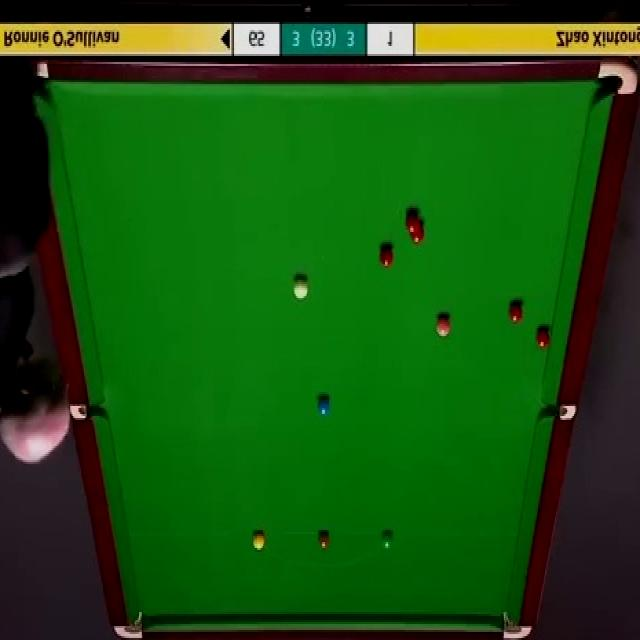pocket: (598, 57, 638, 96), (112, 610, 144, 640), (502, 608, 533, 638), (32, 61, 50, 104), (70, 400, 104, 419), (542, 399, 576, 418)
